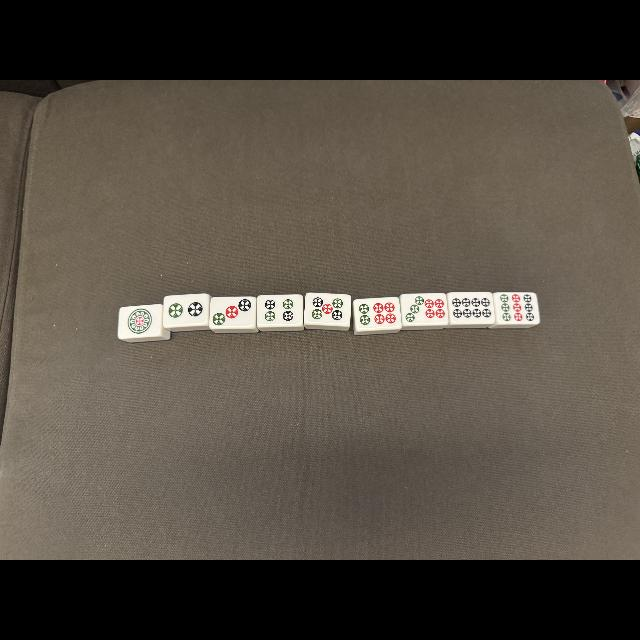d1: (119, 307, 161, 337)
d2: (164, 295, 208, 325)
d3: (210, 296, 256, 328)
d4: (257, 296, 301, 326)
d5: (305, 294, 351, 324)
d6: (356, 298, 400, 330)
d7: (401, 294, 447, 326)
d8: (448, 292, 494, 324)
d9: (496, 292, 538, 324)
